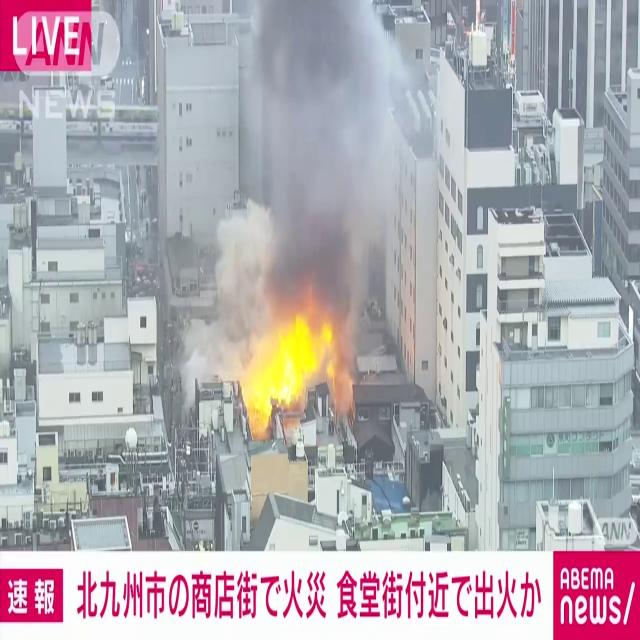Fire: (236, 301, 352, 428)
Smoke: (226, 1, 424, 323)
